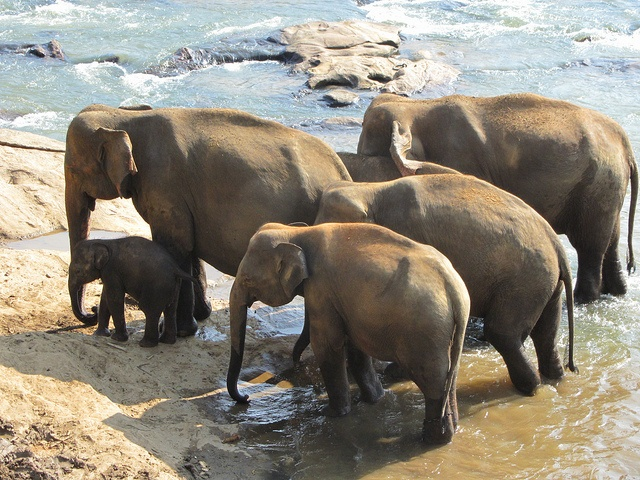elephant: (359, 92, 640, 302), (226, 218, 473, 442), (318, 178, 574, 394), (62, 103, 354, 277), (65, 236, 195, 350)
